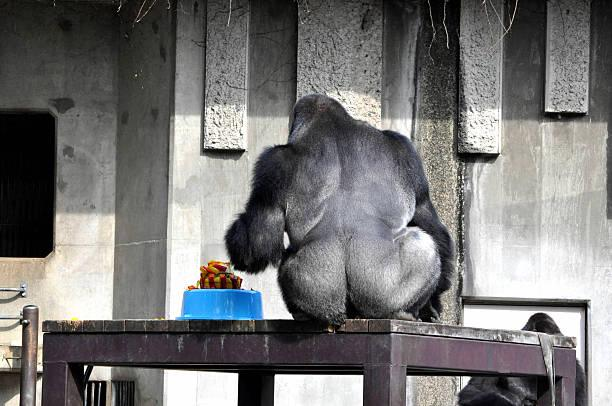gorille_Autres: (237, 68, 458, 333)
